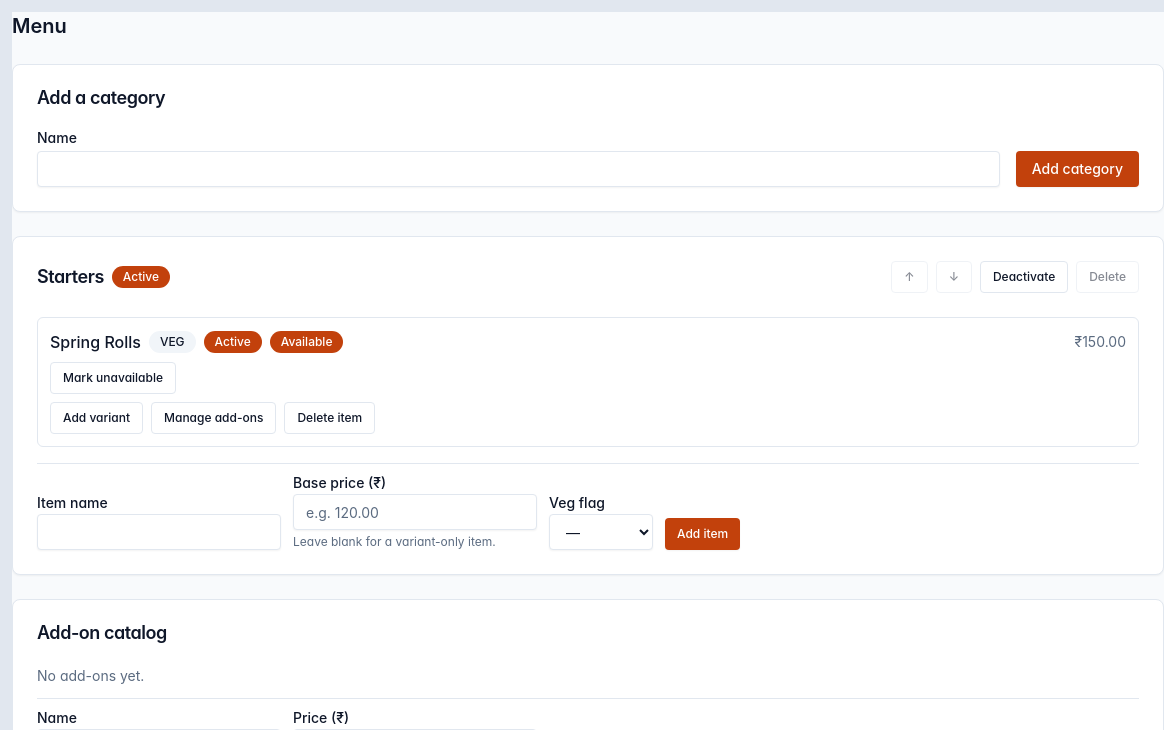
Test: MenuPage › shows error and blocks submit when invalid price is entered in menu item form
expect the text "Spring Rolls" is shown: met, box [50,330,141,354]
Type "Bad Price Item" into the field labelled "Item name".
click(159, 532); type("Bad Price Item")  # box [37,514,281,550]
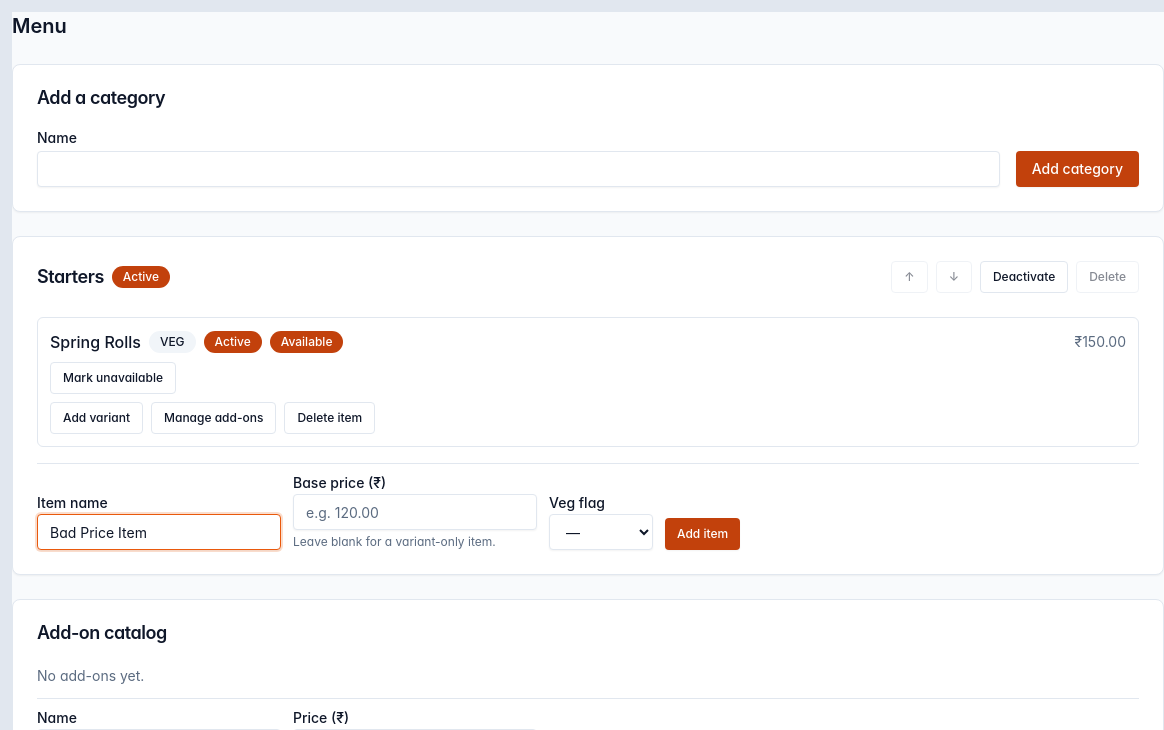
Type "abc" into the field labelled "Base price (₹)".
click(415, 512); type("abc")  # box [293,494,537,530]
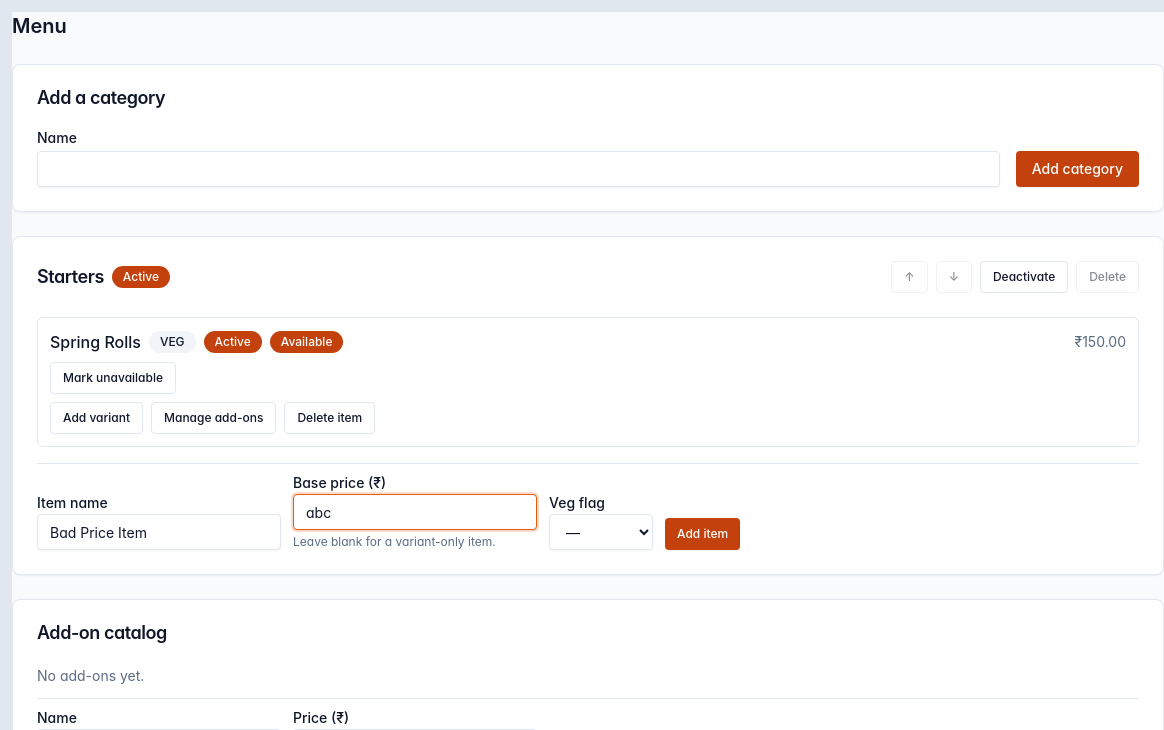
Click the button "Add item".
click(703, 534)  # box [665,518,740,550]
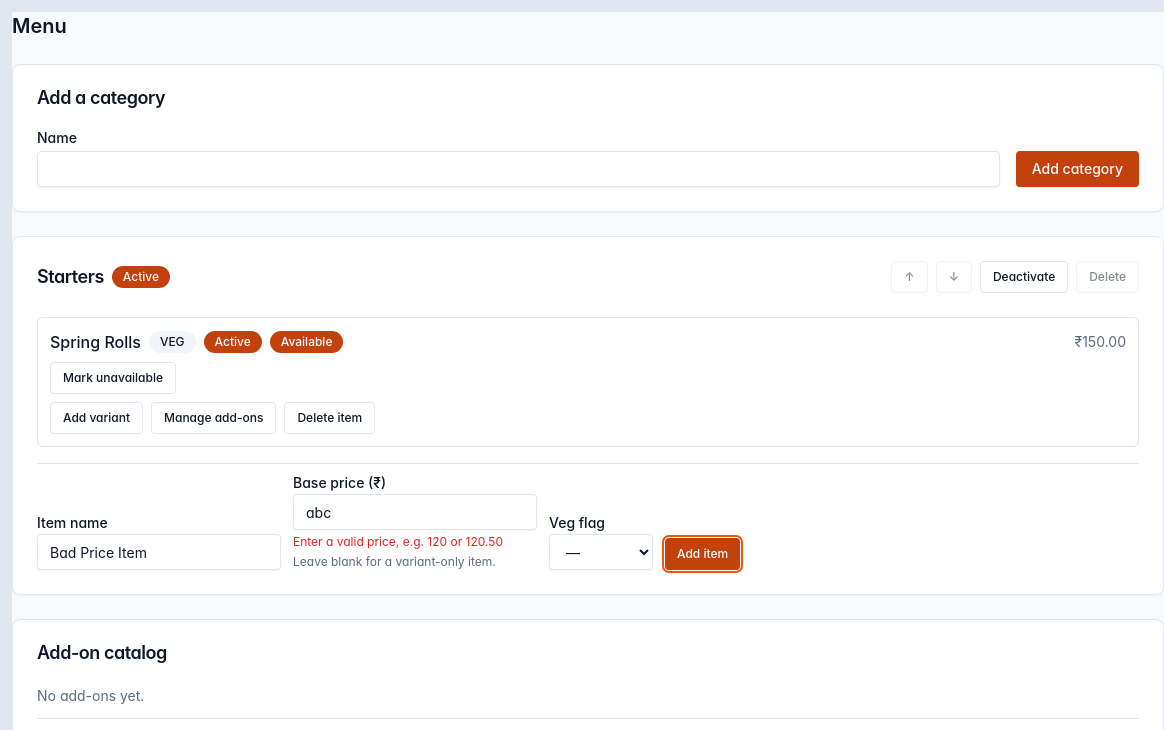
expect the text "Enter a valid price, e.g. 120 or 120.50" is shown: met, box [293,534,537,550]
